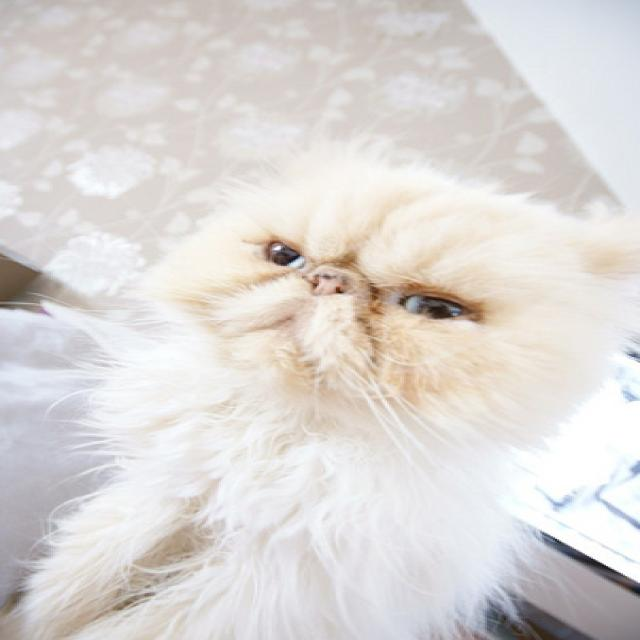Persian: (0, 149, 640, 640)
